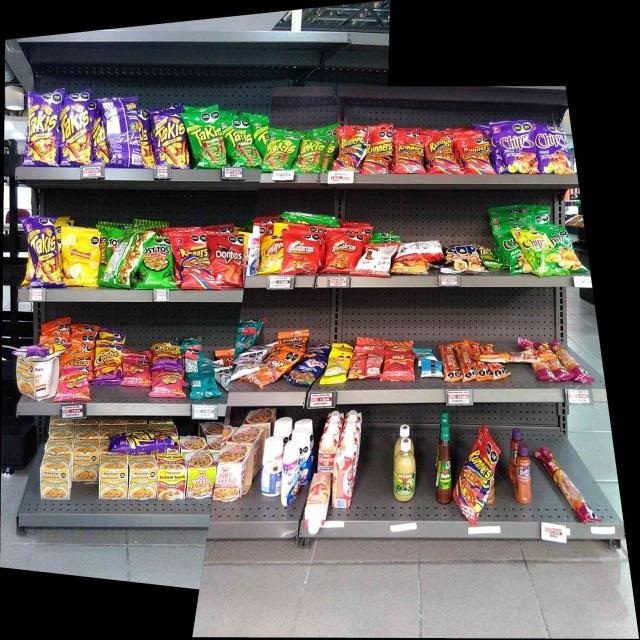bitzEnchilado90: (384, 351, 415, 382)
bitzEnchilado95: (445, 345, 470, 381), (479, 352, 554, 362)
bitzHabanero: (540, 448, 596, 524), (537, 364, 593, 384)
bokadosCacahuates: (295, 356, 320, 383)
cheetosFlaminHot: (96, 344, 121, 384), (153, 343, 184, 369), (19, 344, 63, 356)
cheetosOriginal: (65, 343, 93, 365)
chipsFuego: (493, 120, 537, 174), (538, 125, 569, 173)
chipsJalapeno: (500, 236, 529, 274), (558, 230, 575, 276)
chipsPapatinas: (530, 231, 556, 277)
churrumais: (56, 369, 90, 400), (123, 349, 150, 387), (153, 374, 186, 398)
delPrimoSalsa: (394, 438, 415, 501)
doritosNacho: (214, 234, 242, 286)
fritosLimon: (261, 238, 282, 274)
hotNutsOriginal: (392, 262, 430, 275)
leoCacahuates: (235, 351, 261, 376)
leoMix: (263, 348, 293, 372)
maruchanPollo: (40, 454, 71, 501), (17, 360, 54, 397), (128, 454, 157, 500), (100, 453, 127, 499), (74, 437, 98, 484)
maruchanRes: (159, 453, 185, 499)
nestleCarnation: (308, 474, 329, 527), (334, 446, 352, 507), (319, 441, 332, 468)
nestleLechera: (262, 438, 280, 497), (283, 446, 299, 507), (248, 229, 258, 274)
nissinCamaron: (188, 452, 214, 496)
nissinRes: (216, 444, 252, 496)
popKarameladas: (445, 248, 481, 272)
productoAtras: (110, 97, 136, 166), (108, 236, 140, 286), (188, 356, 216, 398), (349, 350, 381, 376), (362, 245, 388, 276), (402, 244, 442, 258), (422, 359, 443, 378)
rancheritos: (324, 229, 359, 273), (284, 232, 322, 272)
runners: (454, 445, 490, 518), (173, 233, 211, 288), (426, 136, 458, 176), (460, 136, 491, 174), (338, 128, 364, 172), (394, 135, 424, 173), (368, 130, 391, 172)
sabritasOriginal: (62, 228, 102, 286)
salsaBufalo: (438, 424, 451, 503)
semillasCalabaza: (323, 347, 348, 382)
tajinDulce: (515, 444, 532, 504)
takisFuego: (27, 92, 60, 164), (26, 219, 59, 285), (61, 95, 91, 165), (158, 112, 188, 170), (112, 434, 174, 451), (138, 110, 156, 166), (93, 119, 109, 162)
takisOriginal: (190, 114, 225, 169), (227, 119, 261, 169), (297, 136, 334, 171), (263, 129, 294, 170)
tostitos: (142, 238, 172, 288)
